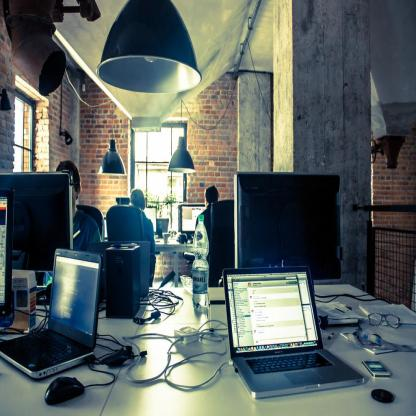board: (223, 264, 365, 400), (0, 248, 103, 380), (192, 212, 210, 312)
